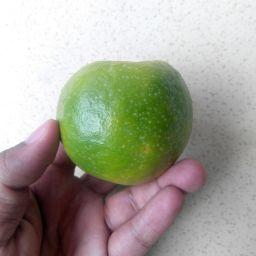Unripe: (57, 59, 194, 184)
